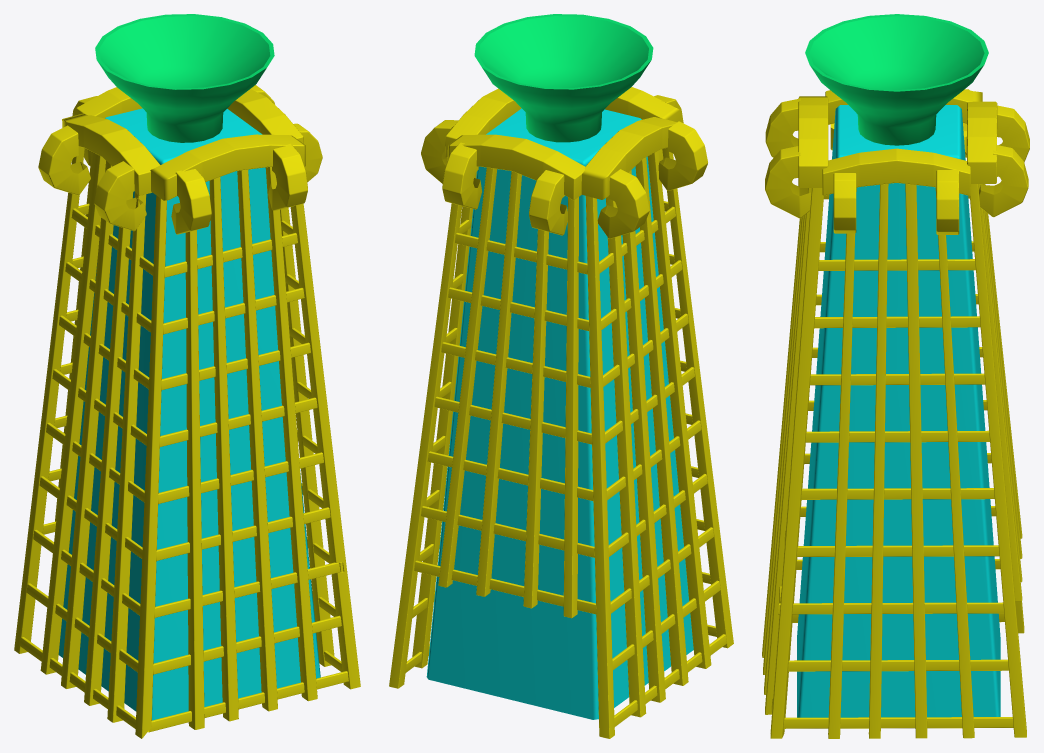
The model's file is Tower.fbx.
3 views of the same model, side by side, from view 1: azimuth 30°, elevation 25°; view 2: azimuth 150°, elevation 25°; view 3: azimuth 270°, elevation 25° (orthographic). The views are drawn at different scales.
Parts seen in each view (by area): view 1: pCube2; view 2: pCube2; view 3: pCube2.
Boxes of the visible parts, box(x1,y1,x2,y2) form: pCube2: box(14, 14, 360, 738); pCube2: box(389, 14, 733, 738); pCube2: box(762, 14, 1029, 738).
Size of the model in its own units: 1154 by 2962 by 1144.
